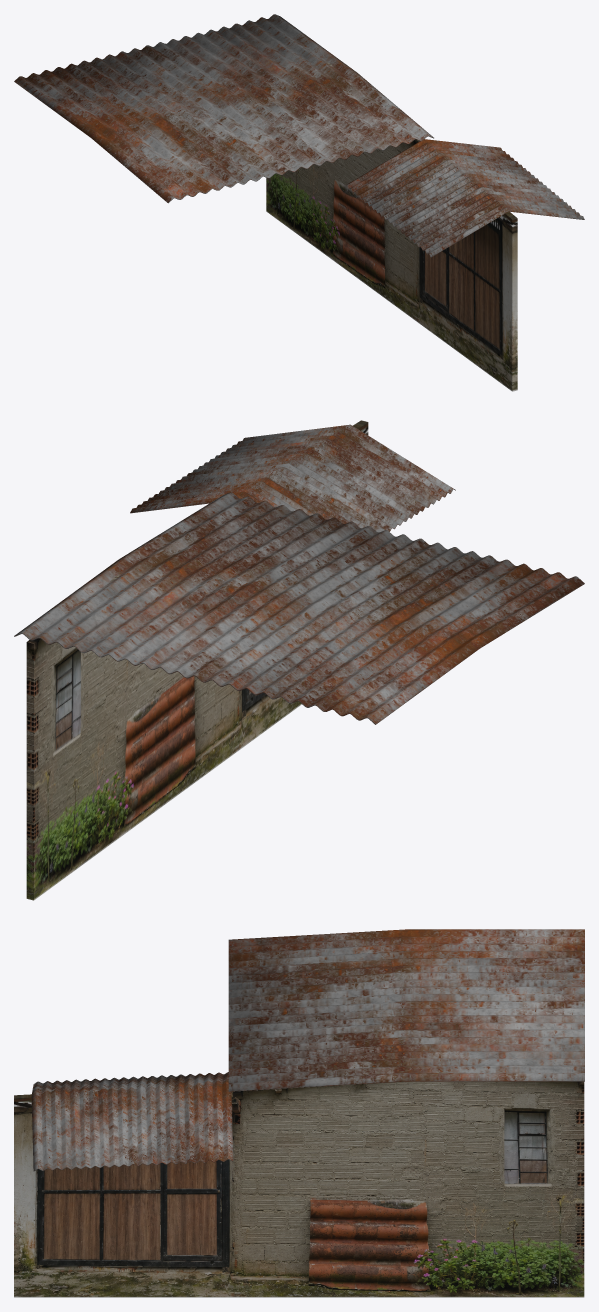
File: casa_2_derecha_05.fbx
The picture shows the model from 3 angles, top to bottom: view 1: azimuth 30°, elevation 25°; view 2: azimuth 150°, elevation 25°; view 3: azimuth 270°, elevation 25°; orthographic projection. The views are drawn at different scales.
Visible parts, largest first — view 1: Techo_05, casa_camino2_derecha_05.001, Techo_05.001; view 2: Techo_05, casa_camino2_derecha_05.001, Techo_05.001; view 3: casa_camino2_derecha_05.001, Techo_05, Techo_05.001.
Part boxes in pixels (x1,y1,x2,y2): Techo_05: [14, 14, 433, 203]; casa_camino2_derecha_05.001: [266, 61, 517, 391]; Techo_05.001: [345, 139, 584, 257]; Techo_05: [14, 492, 584, 724]; casa_camino2_derecha_05.001: [26, 420, 368, 900]; Techo_05.001: [130, 424, 455, 532]; casa_camino2_derecha_05.001: [14, 1072, 584, 1297]; Techo_05: [228, 929, 584, 1091]; Techo_05.001: [31, 1072, 233, 1171].
Bounding box in the file's own units: 538 × 301 × 689.
